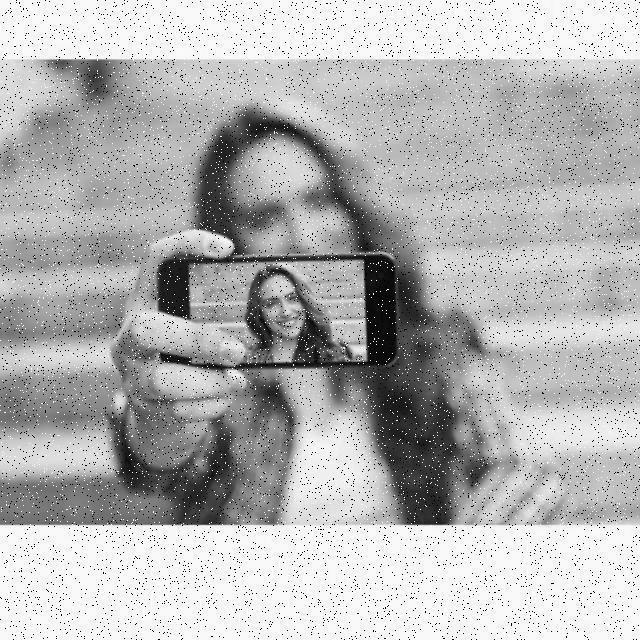fake: (156, 246, 402, 374)
